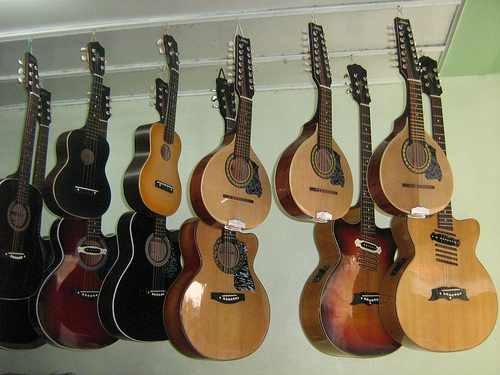guitar: (164, 217, 275, 363), (30, 214, 122, 352), (43, 40, 112, 218), (97, 211, 183, 343), (124, 30, 185, 216), (1, 48, 46, 296)
